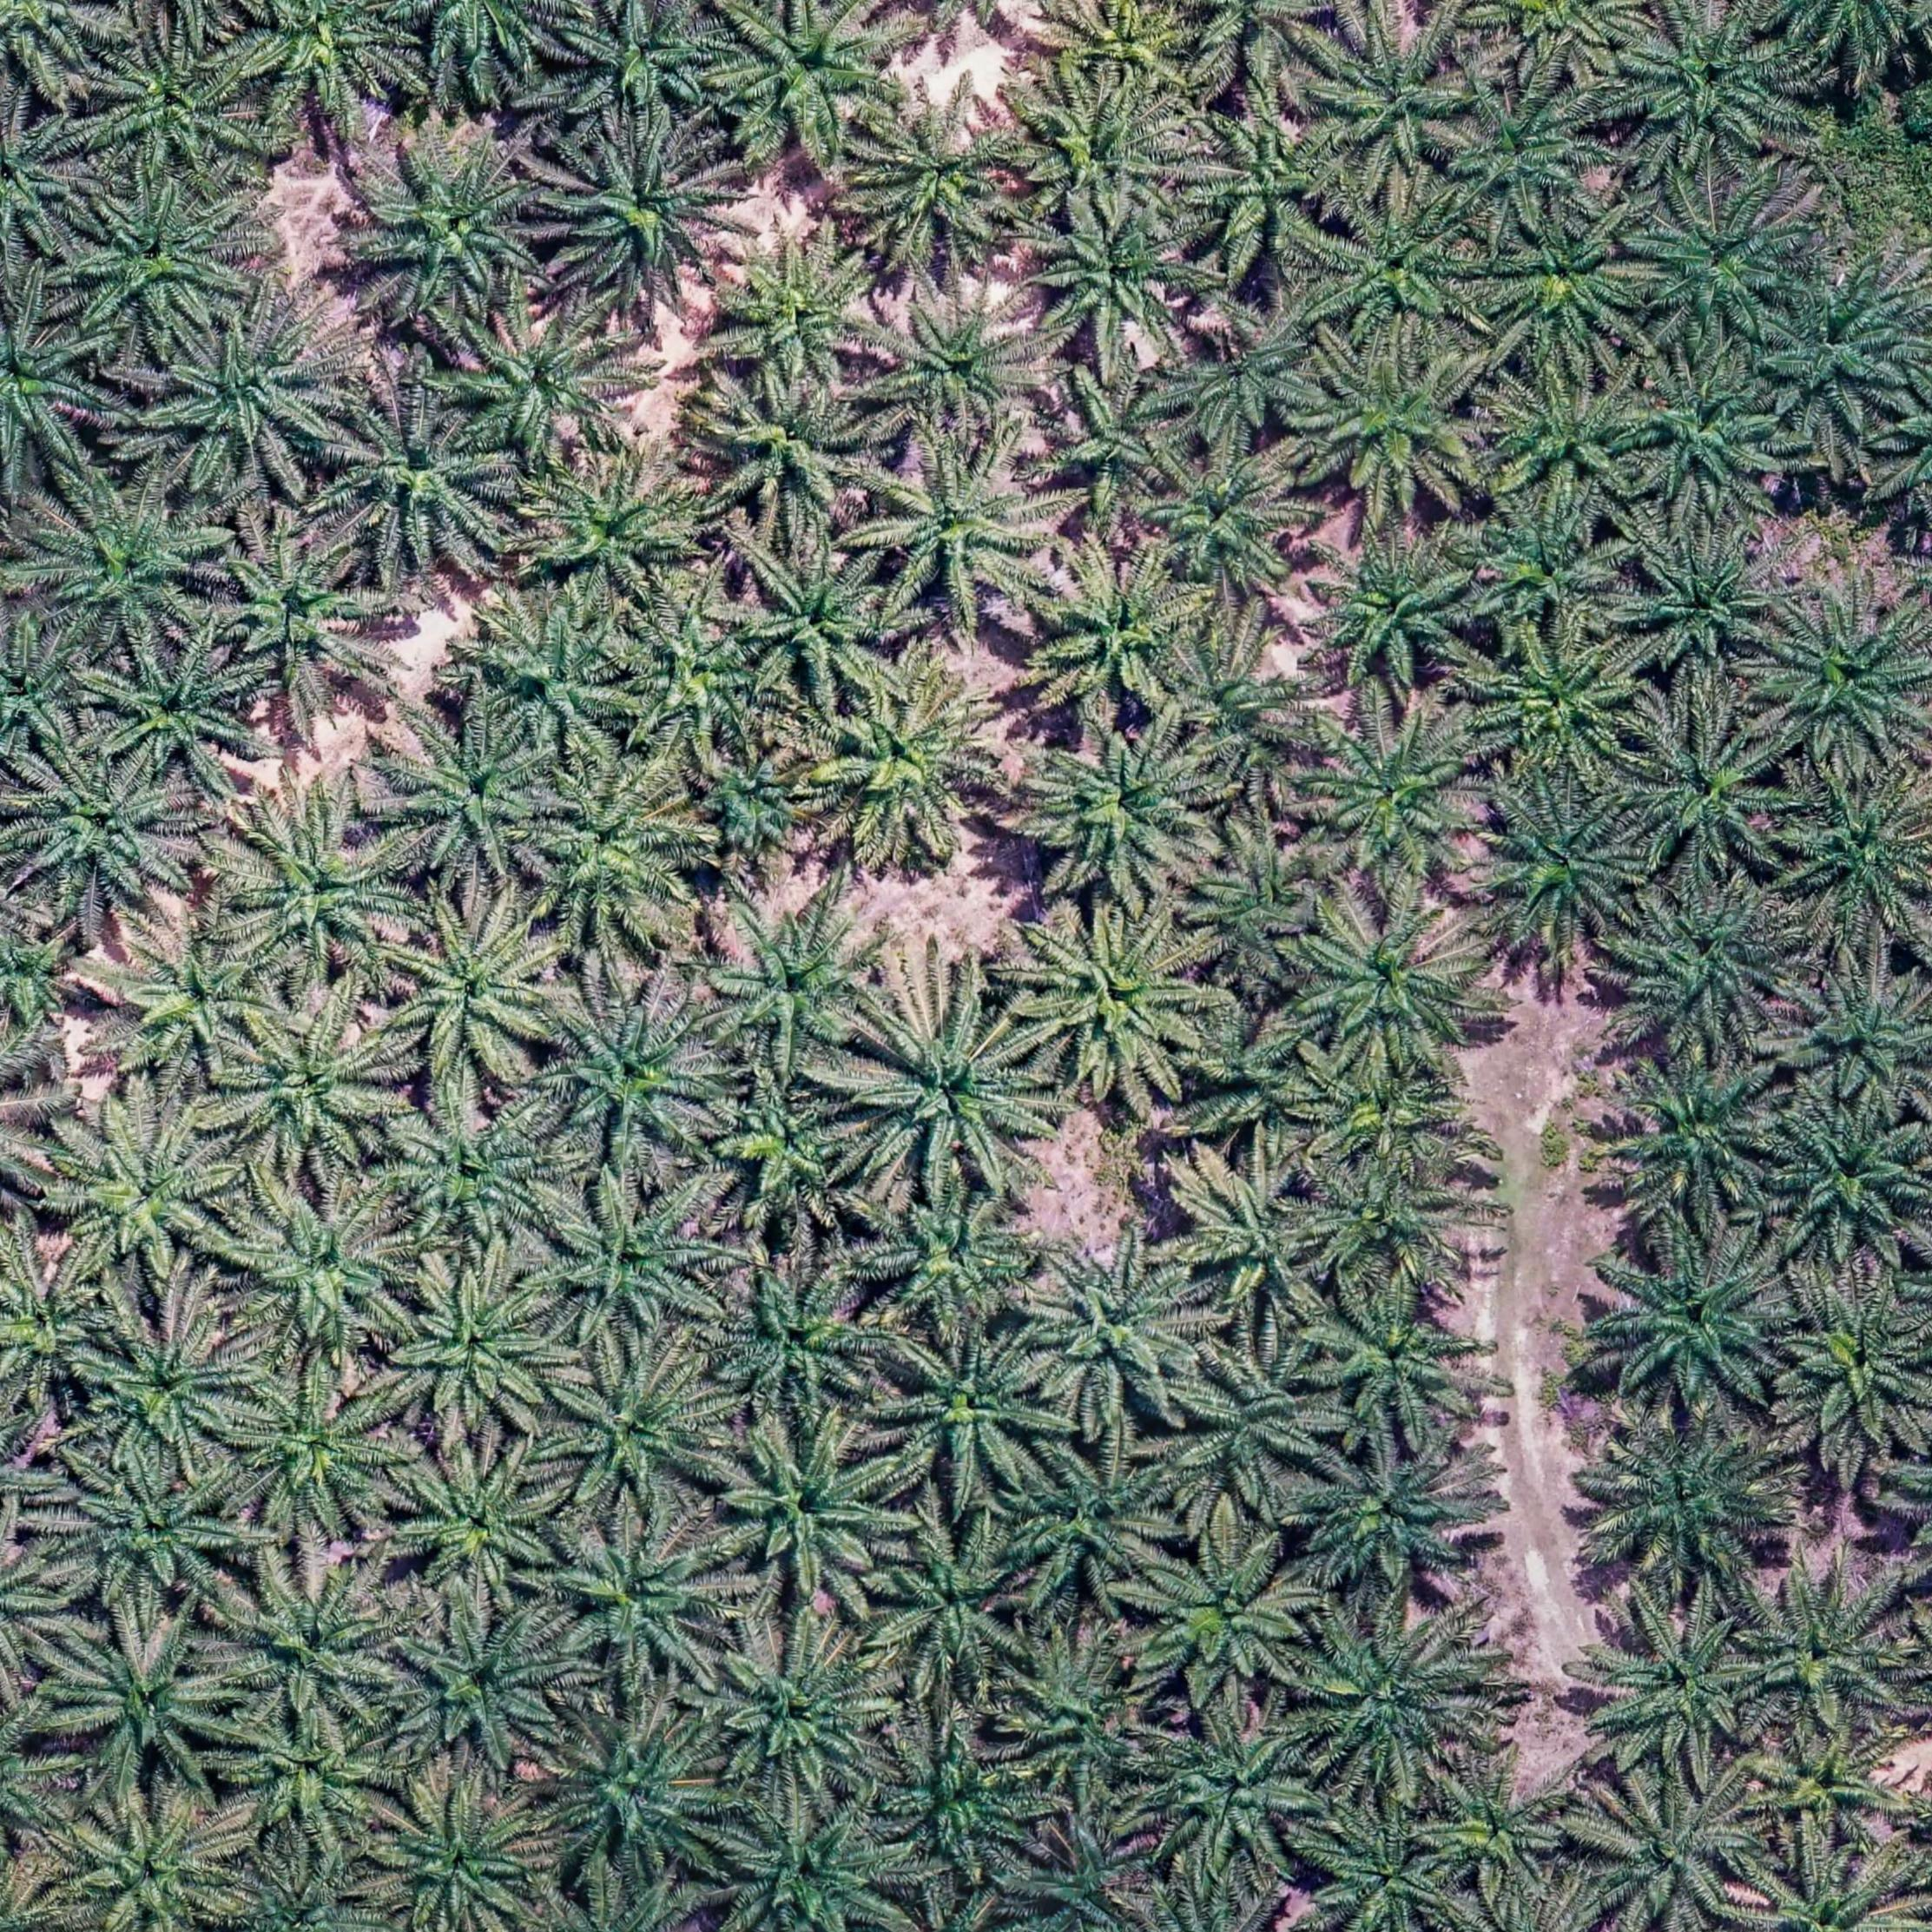palmtree: (842, 981, 1061, 1195), (805, 667, 1018, 867), (348, 134, 561, 329), (224, 784, 419, 982), (1014, 905, 1215, 1096), (1015, 723, 1217, 911), (43, 1098, 243, 1287), (1590, 1412, 1796, 1594), (1599, 1226, 1798, 1411), (153, 304, 351, 490), (703, 887, 899, 1074), (46, 1613, 245, 1797), (1021, 1239, 1212, 1429), (715, 1416, 909, 1604), (545, 126, 745, 307), (867, 441, 1062, 625), (1295, 1607, 1489, 1791), (542, 986, 735, 1169), (380, 897, 567, 1085), (530, 759, 711, 951), (1297, 342, 1495, 517), (48, 1446, 249, 1617), (1586, 1602, 1777, 1782), (390, 1600, 584, 1776), (231, 1182, 419, 1362), (715, 1, 913, 172), (543, 1706, 733, 1884), (217, 1552, 411, 1726), (211, 529, 392, 715), (221, 998, 410, 1176), (12, 747, 204, 922), (327, 394, 519, 570), (30, 485, 225, 656), (710, 1623, 901, 1797), (546, 1341, 735, 1517), (1298, 894, 1487, 1071), (1294, 1429, 1486, 1602), (1734, 1559, 1918, 1739), (63, 174, 253, 346), (541, 1177, 733, 1348), (852, 101, 1036, 279), (702, 366, 896, 535), (880, 1324, 1068, 1499), (1306, 709, 1494, 883), (1146, 1708, 1335, 1881), (521, 449, 718, 615), (1581, 1764, 1776, 1931), (1025, 201, 1211, 373), (551, 1515, 736, 1688), (1007, 68, 1203, 231), (382, 1092, 573, 1260), (1607, 1055, 1794, 1226), (865, 280, 1056, 445), (1025, 546, 1208, 720), (1131, 1527, 1313, 1701), (1304, 1279, 1487, 1452), (386, 1266, 567, 1438), (384, 715, 565, 887), (1615, 883, 1799, 1052), (1617, 5, 1807, 168), (712, 1262, 899, 1428), (105, 914, 287, 1084), (714, 231, 897, 399), (1184, 109, 1361, 282), (450, 307, 637, 470), (233, 1362, 411, 1533), (1001, 1436, 1182, 1606), (386, 1438, 570, 1602), (1757, 589, 1932, 762), (872, 1517, 1044, 1692), (1306, 533, 1487, 697), (1477, 786, 1653, 953), (1757, 260, 1925, 432), (701, 1078, 874, 1245), (1777, 1275, 1932, 1461), (1485, 208, 1657, 376), (88, 1304, 264, 1467), (1178, 1158, 1342, 1334), (862, 1184, 1046, 1339), (1141, 441, 1313, 607), (1176, 1335, 1344, 1504), (1001, 1632, 1169, 1801), (1760, 1102, 1930, 1269), (739, 541, 910, 707), (226, 1705, 410, 1857), (615, 603, 795, 758), (1622, 710, 1794, 872), (1636, 191, 1809, 352), (878, 1724, 1047, 1885), (1316, 194, 1489, 352), (1472, 630, 1652, 781), (96, 638, 271, 794), (90, 30, 272, 180), (469, 597, 640, 755), (374, 1782, 551, 1932), (717, 1799, 916, 1932), (1625, 529, 1797, 682), (1184, 823, 1345, 985), (1628, 357, 1790, 517), (58, 1796, 247, 1932), (1152, 633, 1315, 792), (1316, 18, 1477, 177), (1301, 1152, 1480, 1295), (1782, 768, 1932, 937), (551, 0, 742, 132), (1488, 370, 1660, 516), (1297, 1045, 1470, 1188), (1442, 76, 1606, 227), (1176, 294, 1337, 444), (1747, 1721, 1913, 1866), (1038, 370, 1193, 523), (1422, 1751, 1585, 1896), (1469, 493, 1633, 636), (235, 0, 422, 123), (1785, 964, 1932, 1114), (0, 292, 111, 490), (1183, 1003, 1328, 1152), (1302, 1804, 1466, 1932), (0, 1247, 115, 1417), (684, 736, 833, 867), (1006, 1817, 1164, 1932), (1730, 1843, 1926, 1932), (0, 617, 107, 776), (1046, 0, 1203, 100), (0, 106, 97, 263), (0, 911, 103, 1058), (221, 1850, 404, 1932), (408, 0, 539, 108), (1180, 0, 1337, 89)
